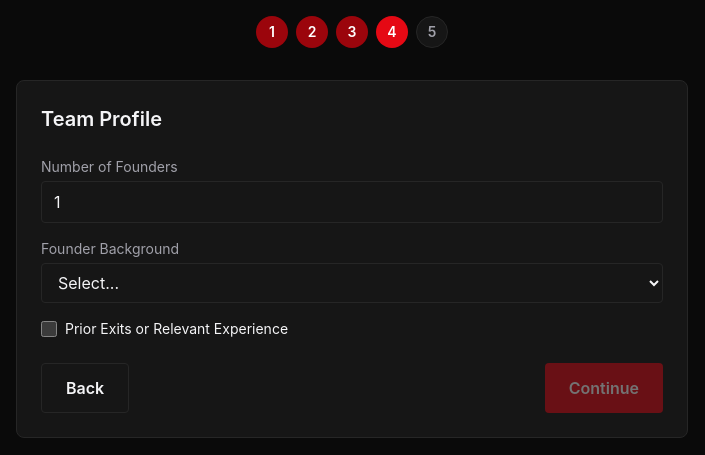
Test: REQ-12 AC-05: Step 4 Validation › Continue button enabled with spinner + dropdown filled (checkbox optional)
The width and height of the screenshot is (705, 455).
Replace the text in the number field with "2" at (352, 202), box top-left (41, 181), bottom-right (663, 223)
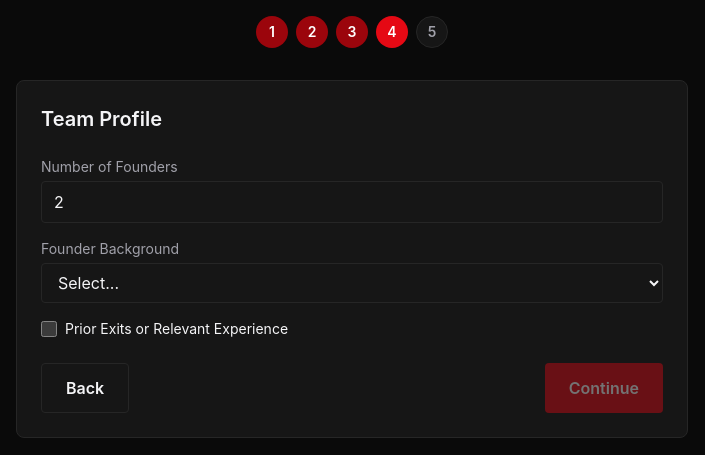
Select "Mixed" in the dropdown labelled "Founder Background" at (352, 283), box top-left (41, 263), bottom-right (663, 303)
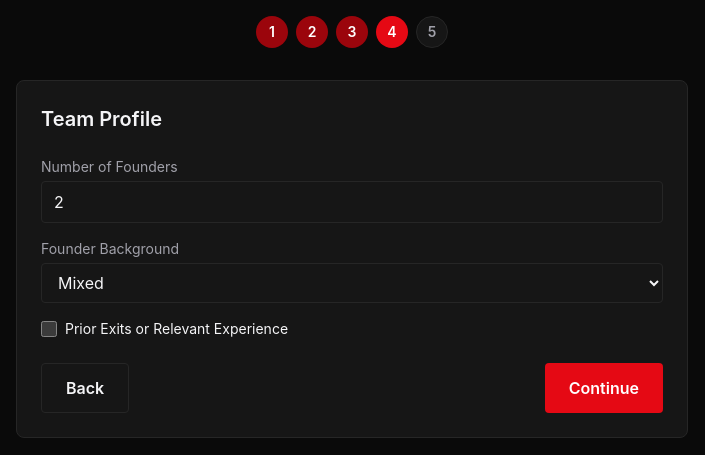
Expected: the button "Continue" is enabled, top-left (545, 363), bottom-right (663, 413)
